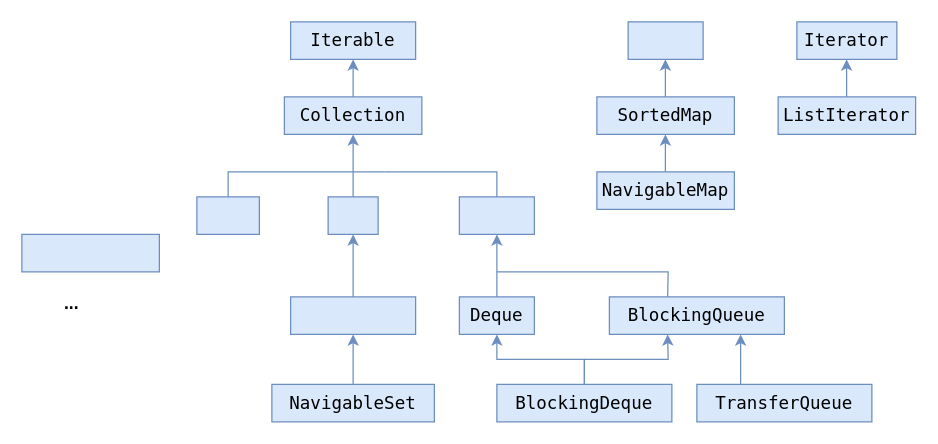
The diagram is 938 pixels wide and 444 high, and some of its shapes have lost their labels. The centre of each missing label's shape, as x and y in pixels:
"List" belongs at (x=227, y=215).
"Map" belongs at (x=665, y=40).
"Queue" belongs at (x=496, y=215).
"RandomAccess" belongs at (x=90, y=252).
"Set" belongs at (x=352, y=215).
"SortedSet" belongs at (x=352, y=315).
